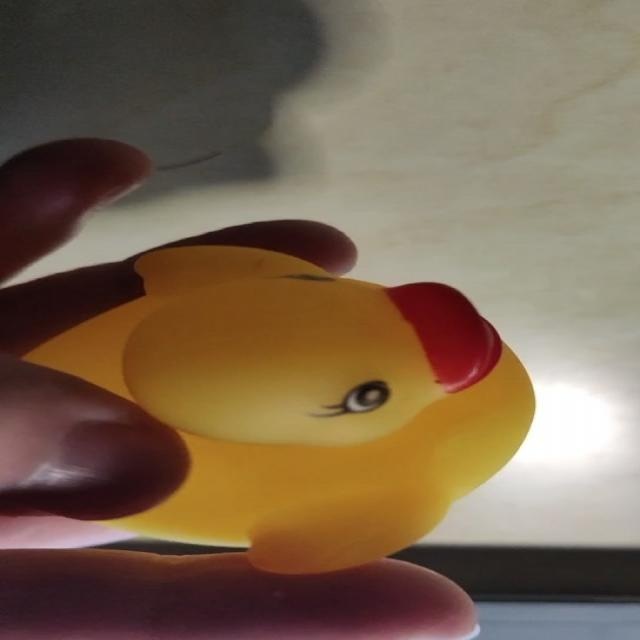rubber-duck: (26, 244, 533, 570)
